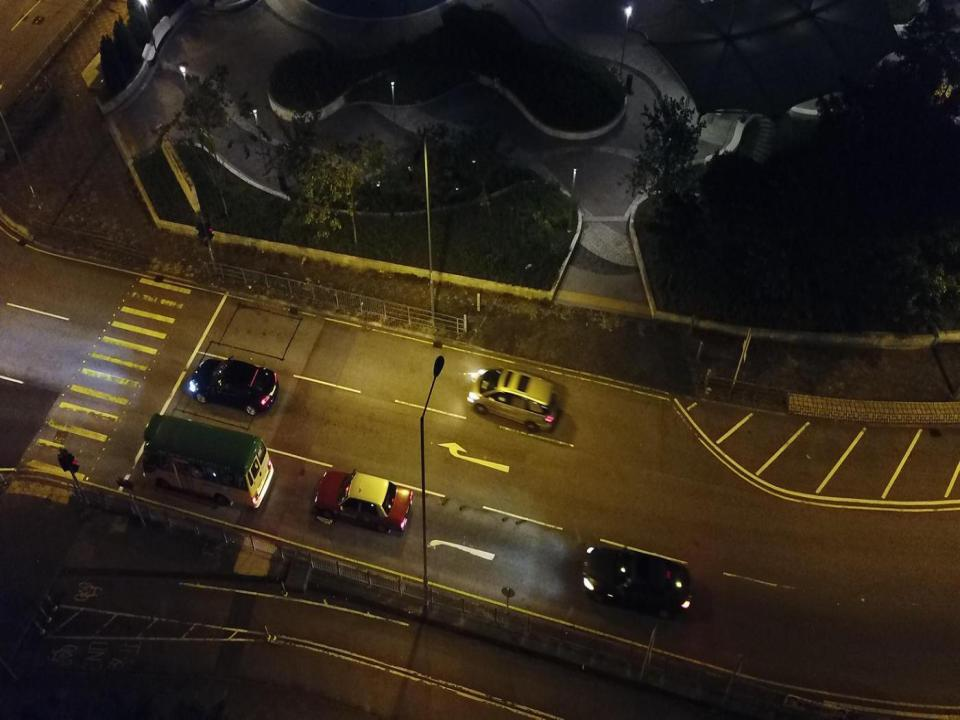bus: (142, 412, 274, 510)
car: (582, 544, 693, 620), (312, 470, 414, 532), (468, 367, 562, 432), (191, 355, 279, 415)
